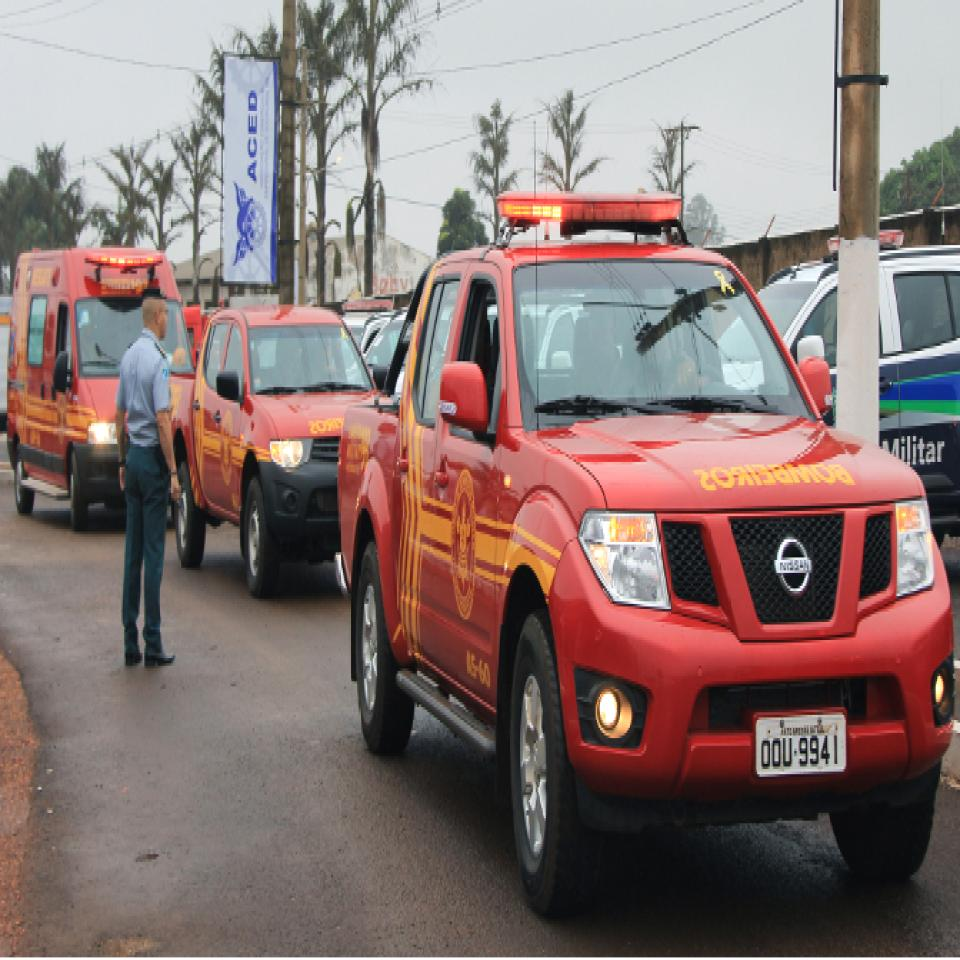bombeiro: (335, 187, 957, 942), (164, 290, 395, 607), (8, 243, 195, 534)
